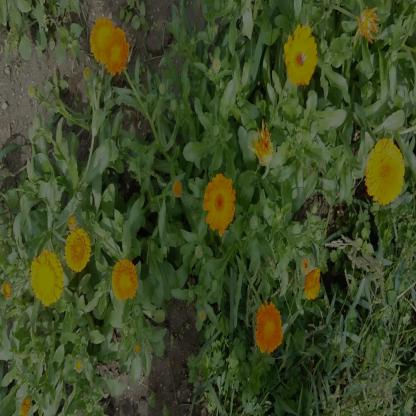marigold: (366, 137, 404, 205), (286, 27, 318, 89), (30, 250, 62, 308), (204, 175, 236, 231), (257, 304, 284, 354), (63, 228, 89, 275), (90, 19, 116, 63), (250, 121, 276, 160), (104, 28, 128, 70), (112, 261, 135, 303)
